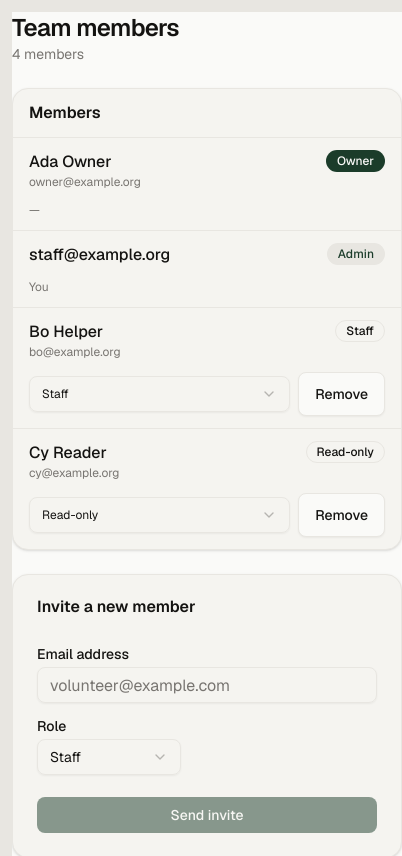
TeamPage: ADMIN is offered only to an OWNER › withholds ADMIN when the caller is an ADMIN
Step 1. Click the dropdown named "Role for Bo Helper" → x=55, y=394, box [29, 376, 290, 412]
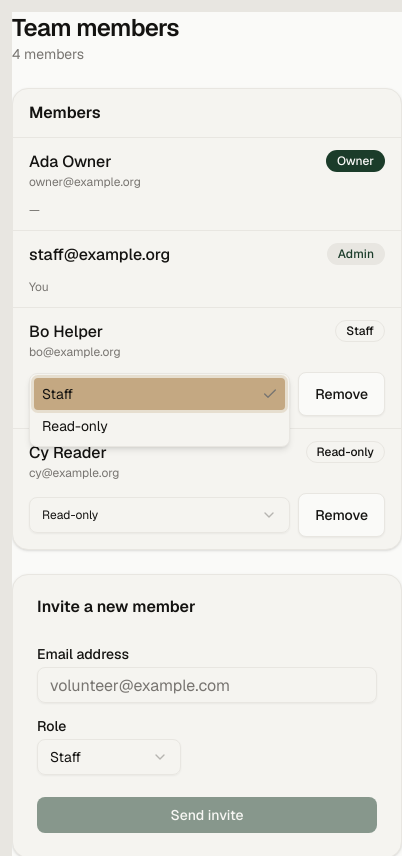
Result: the option "Staff" is shown at [34, 378, 285, 410]
Result: the option "Read-only" is shown at [42, 417, 108, 435]
